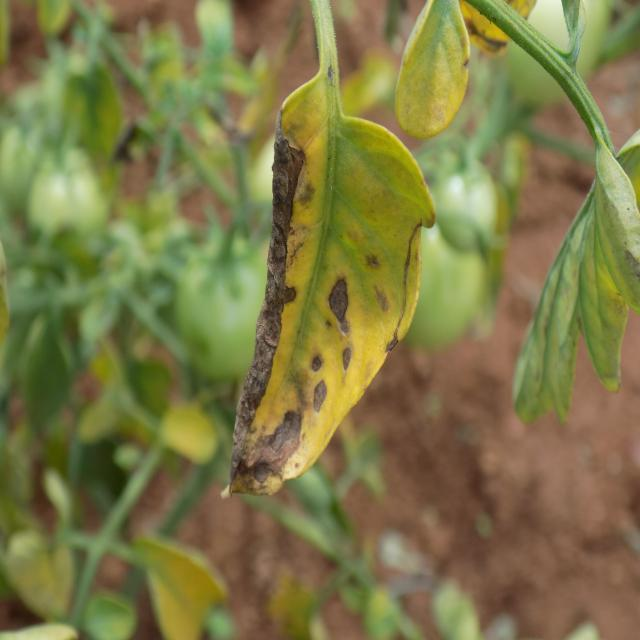tomato_early blight: (225, 0, 435, 494), (395, 0, 467, 134), (138, 538, 225, 640)
